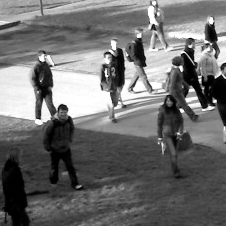person: (45, 103, 84, 191), (2, 147, 35, 226), (181, 37, 216, 110), (158, 94, 187, 177), (165, 54, 200, 122), (30, 49, 58, 124), (129, 28, 158, 94), (100, 51, 121, 124), (147, 1, 175, 51), (197, 43, 219, 106), (108, 38, 127, 108), (201, 15, 222, 60), (216, 61, 226, 144)
